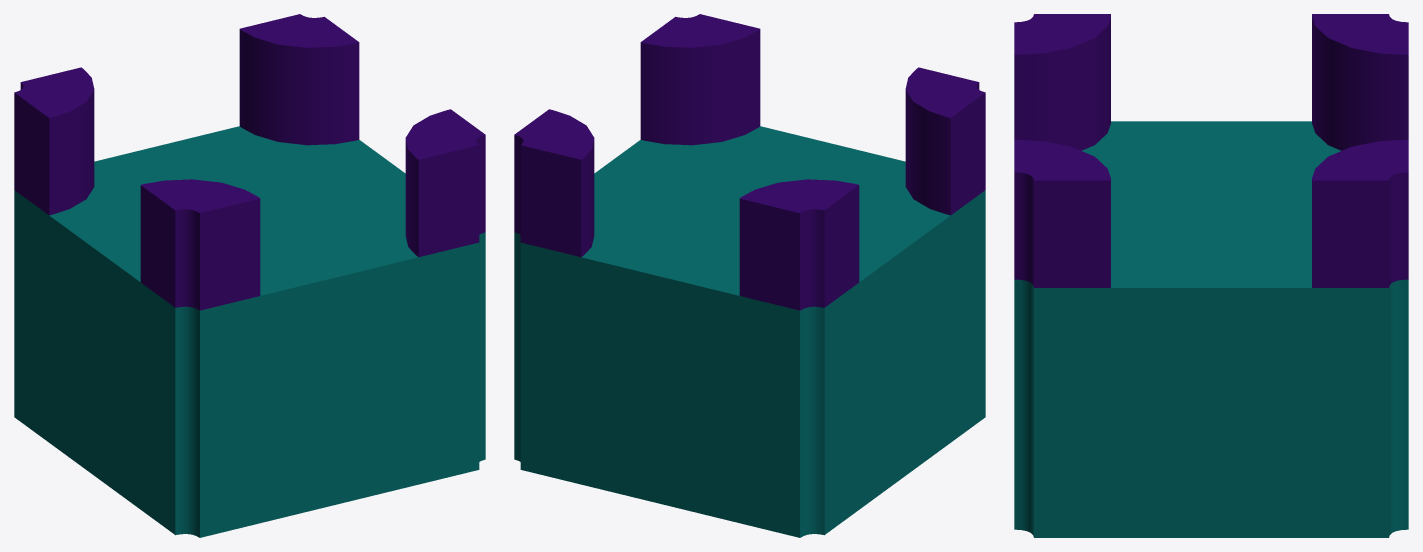
Rendered from Roof_05_O_R.fbx.
The picture shows the model from 3 angles, left to right: view 1: azimuth 30°, elevation 25°; view 2: azimuth 150°, elevation 25°; view 3: azimuth 270°, elevation 25°; orthographic projection. The views are drawn at different scales.
Visible parts, largest first — view 1: 3, 1, 4, 2; view 2: 4, 2, 3, 1; view 3: 1, 2, 3, 4.
Part boxes in pixels (x1=…): 3: x1=95, y1=179, x2=339, y2=537; 1: x1=260, y1=109, x2=485, y2=503; 4: x1=14, y1=67, x2=208, y2=475; 2: x1=160, y1=14, x2=404, y2=208; 4: x1=660, y1=179, x2=904, y2=537; 2: x1=514, y1=109, x2=739, y2=503; 3: x1=791, y1=67, x2=985, y2=475; 1: x1=595, y1=14, x2=839, y2=208; 1: x1=1014, y1=139, x2=1211, y2=537; 2: x1=1211, y1=139, x2=1408, y2=537; 3: x1=1014, y1=14, x2=1211, y2=204; 4: x1=1211, y1=14, x2=1408, y2=204.
Size of the model in its own units: 200 by 200 by 200.
